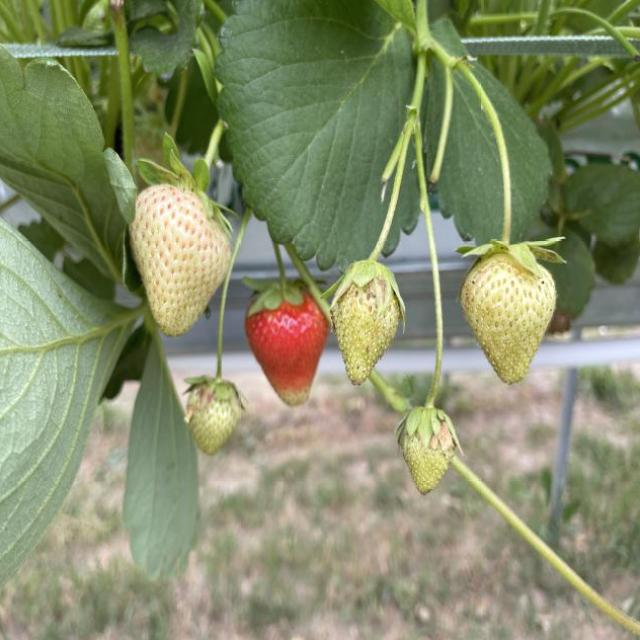stem: (459, 64, 564, 274), (337, 112, 410, 304), (402, 202, 459, 446), (136, 119, 226, 193), (187, 291, 233, 397), (242, 243, 304, 316)
strawberryNR: (128, 184, 231, 334), (460, 254, 555, 381), (333, 278, 399, 383), (400, 424, 453, 492), (187, 384, 236, 452)
strawberryR: (248, 292, 326, 403)
